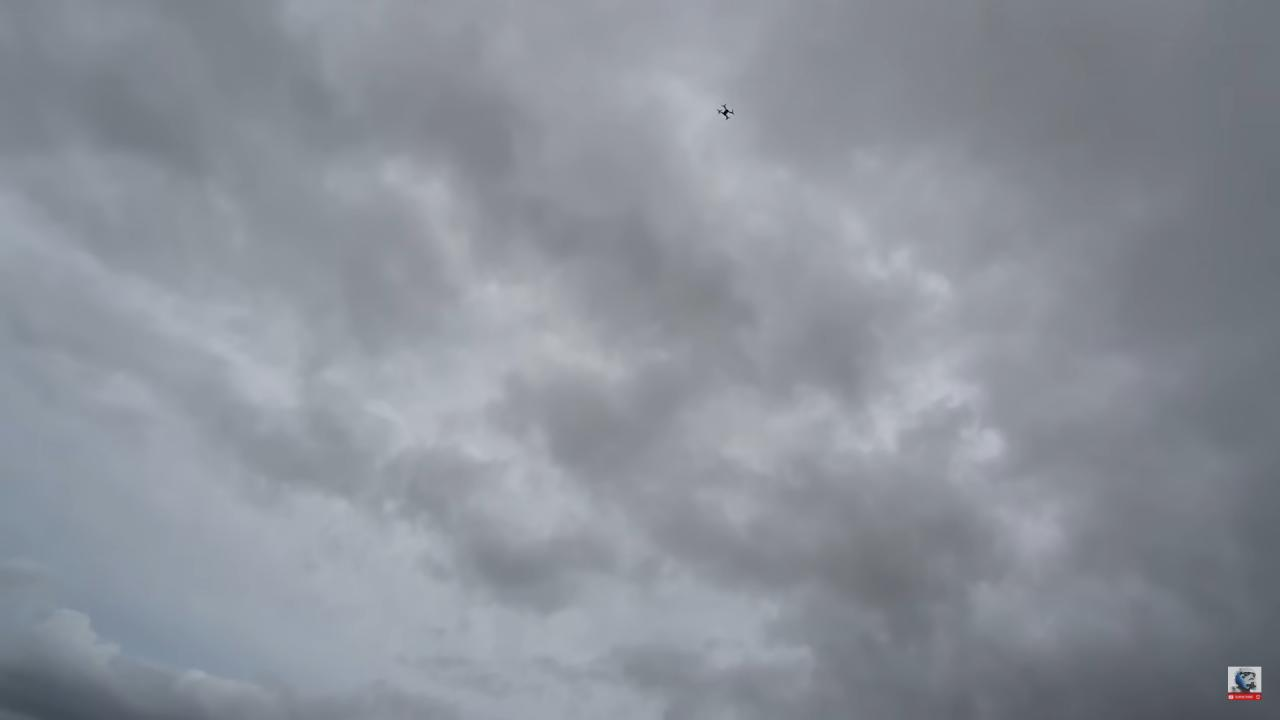Drone: (706, 95, 745, 129)
